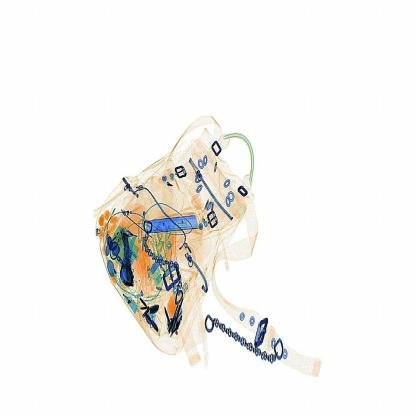pliers: (147, 212, 203, 238)
